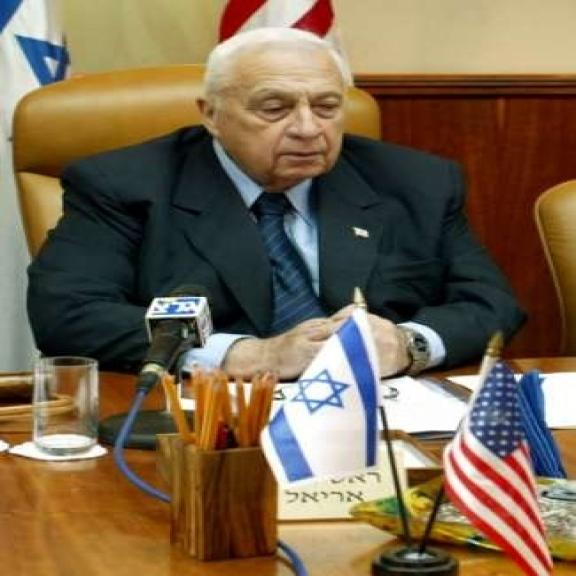face: (191, 26, 350, 183)
